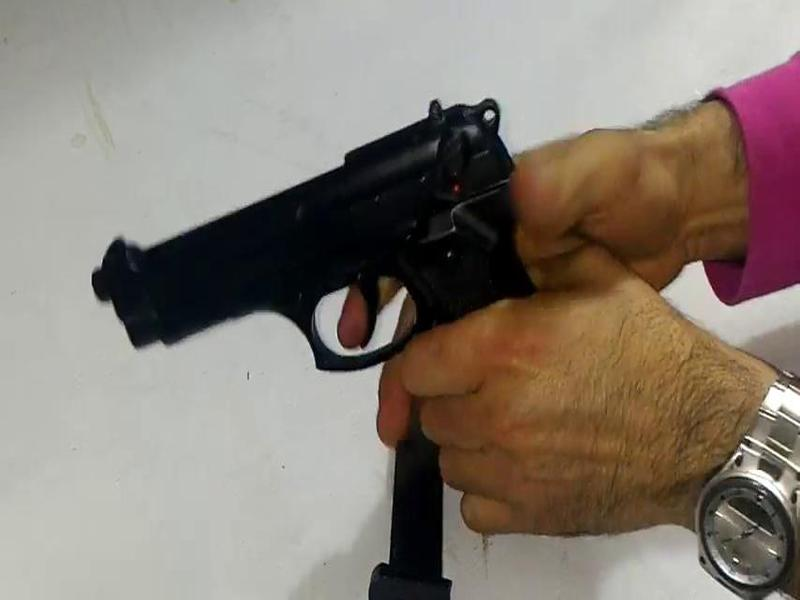Pistola: (84, 62, 552, 404)
